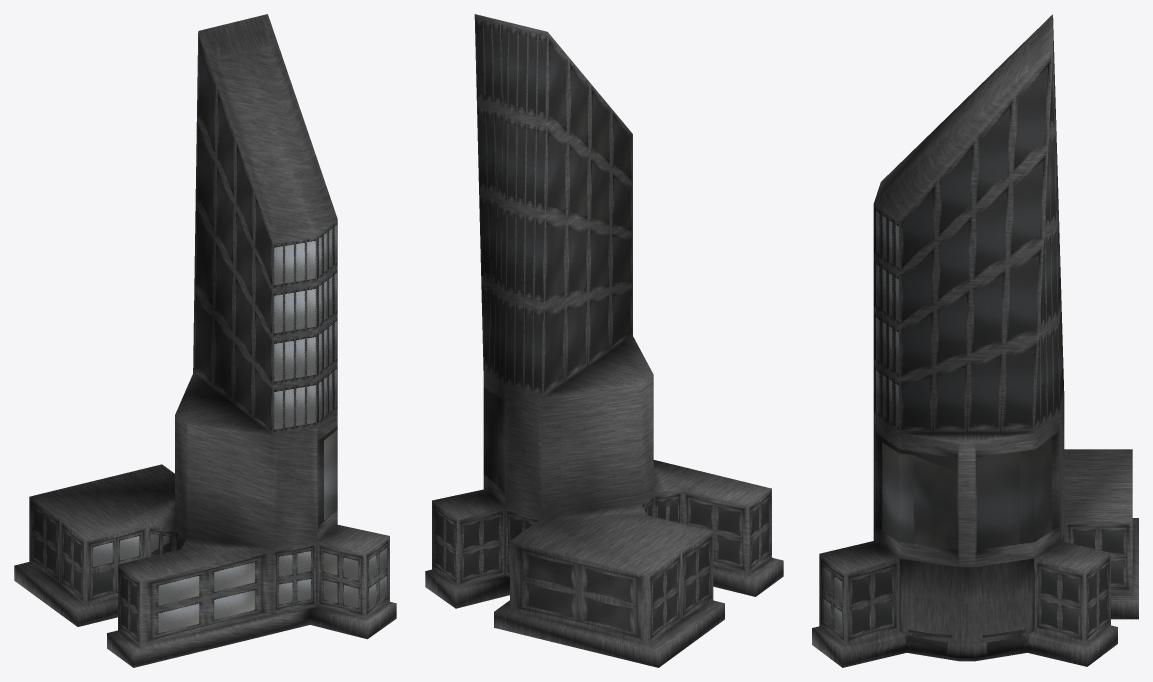
File: skyscraper2.obj
3 views of the same model, side by side, from view 1: azimuth 30°, elevation 25°; view 2: azimuth 150°, elevation 25°; view 3: azimuth 270°, elevation 25° (orthographic). The views are drawn at different scales.
Visible parts, largest first — view 1: SkyScraper2_Cube.043; view 2: SkyScraper2_Cube.043; view 3: SkyScraper2_Cube.043.
Part boxes in pixels (x1=…): SkyScraper2_Cube.043: x1=14, y1=14, x2=396, y2=667; SkyScraper2_Cube.043: x1=425, y1=14, x2=783, y2=667; SkyScraper2_Cube.043: x1=812, y1=14, x2=1138, y2=667.
Bounding box in the file's own units: 65.87 × 138 × 68.26.
1 material, 1 textured.
